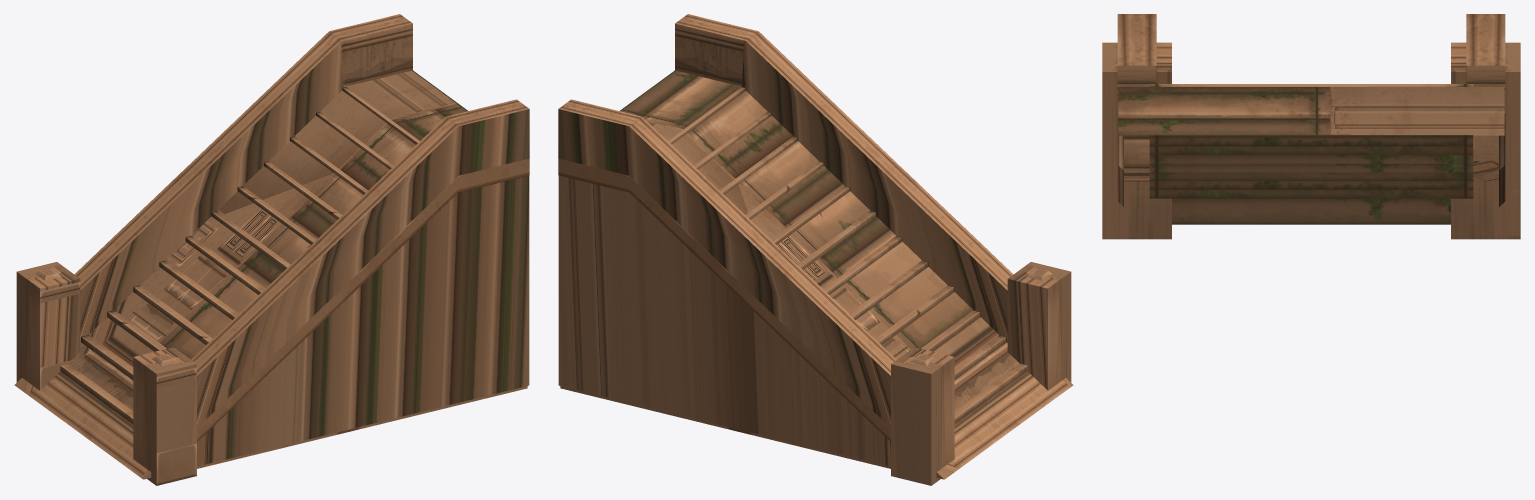
File: stairs02_A.FBX
3 views of the same model, side by side, from view 1: azimuth 30°, elevation 25°; view 2: azimuth 150°, elevation 25°; view 3: azimuth 270°, elevation 25° (orthographic). The views are drawn at different scales.
Visible parts, largest first — view 1: stairs02_A_COL, stairs02_A; view 2: stairs02_A_COL, stairs02_A; view 3: stairs02_A_COL, stairs02_A.
Boxes of the visible parts, x1=… form: stairs02_A_COL: x1=14, y1=42, x2=529, y2=485; stairs02_A: x1=35, y1=14, x2=529, y2=485; stairs02_A_COL: x1=558, y1=40, x2=1073, y2=485; stairs02_A: x1=558, y1=14, x2=1052, y2=468; stairs02_A_COL: x1=1102, y1=42, x2=1520, y2=239; stairs02_A: x1=1102, y1=14, x2=1520, y2=239.
Bounding box in the file's own units: 517 × 360 × 325.
